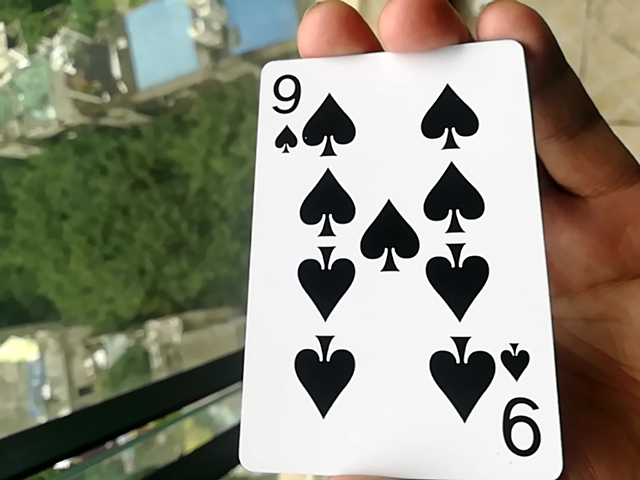ht 9: (234, 43, 546, 478)
